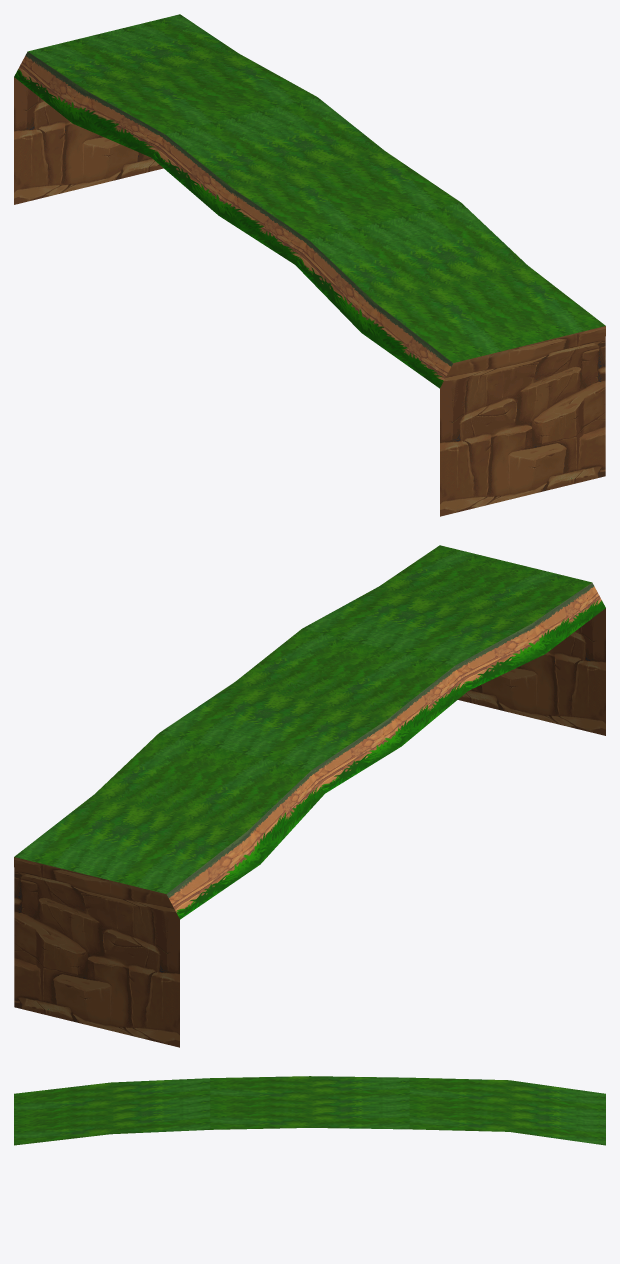
File: wall02.FBX
3 renders of one model, top to bottom at view 1: azimuth 30°, elevation 25°; view 2: azimuth 150°, elevation 25°; view 3: azimuth 270°, elevation 25°, orthographic. The views are drawn at different scales.
Visible parts, largest first — view 1: wall002; view 2: wall002; view 3: wall002.
Boxes of the visible parts, bbox=[...] form: wall002: bbox=[14, 14, 605, 516]; wall002: bbox=[14, 545, 605, 1047]; wall002: bbox=[14, 1076, 605, 1145].
Bounding box in the file's own units: 61.51 × 57.01 × 256.
